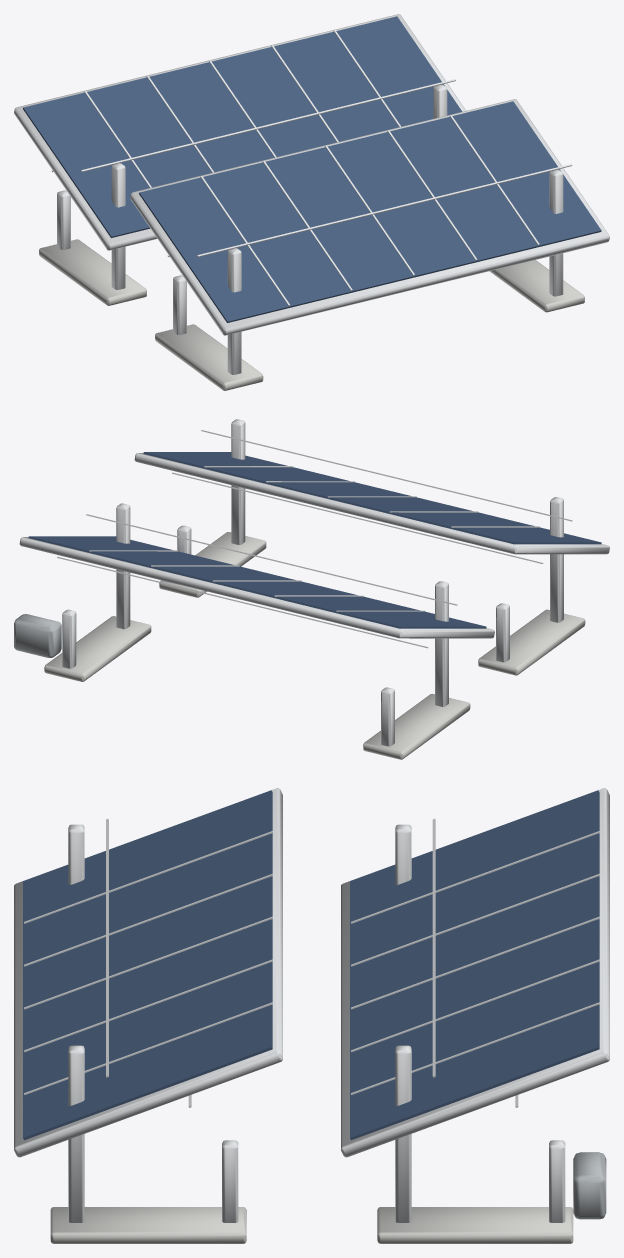
File: solar_panel.glb
3 views of the same model, one above another, from view 1: azimuth 30°, elevation 25°; view 2: azimuth 150°, elevation 25°; view 3: azimuth 270°, elevation 25° (orthographic). The views are drawn at different scales.
Parts seen in each view (by area): view 1: Body; view 2: Body; view 3: Body.
Part boxes in pixels (x1,y1,x2,y2): Body: [14, 14, 609, 390]; Body: [14, 419, 609, 759]; Body: [14, 788, 609, 1243].
Size of the model in its own units: 1.96 by 0.6879 by 1.82.
